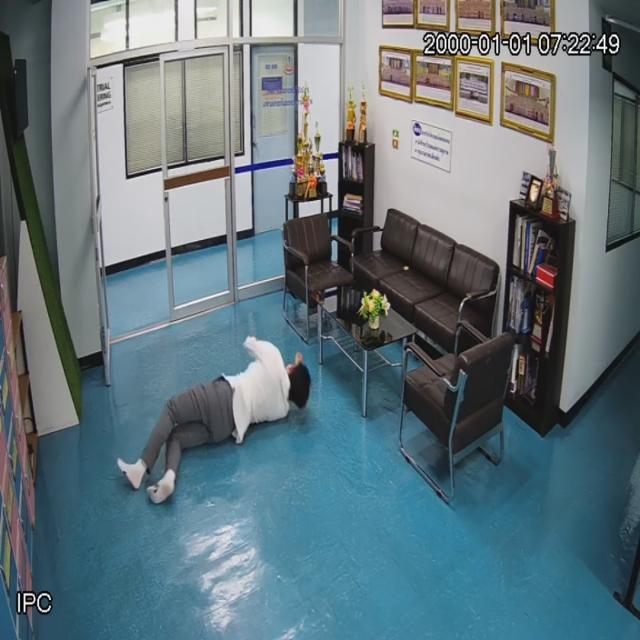fall: (113, 334, 314, 510)
